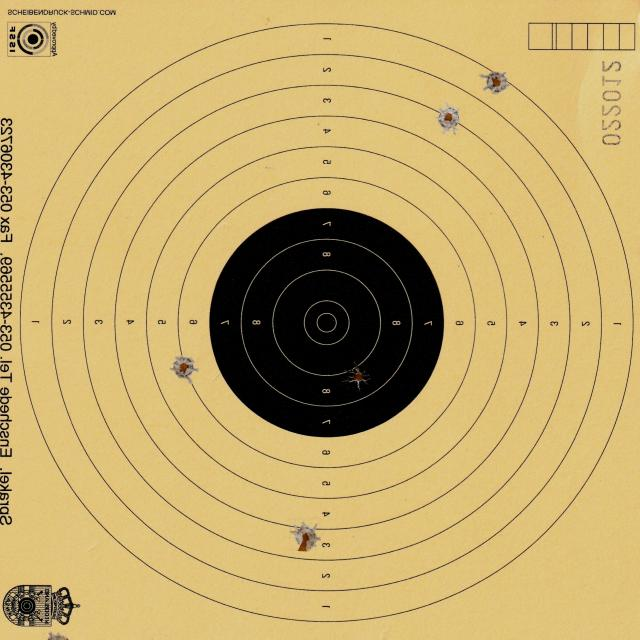1: (483, 70, 511, 96)
2: (436, 104, 460, 133)
4: (289, 524, 318, 554)
6: (166, 355, 198, 381)
9: (347, 360, 371, 391)
Target: (18, 21, 633, 624)
black_contour: (208, 207, 444, 438)
